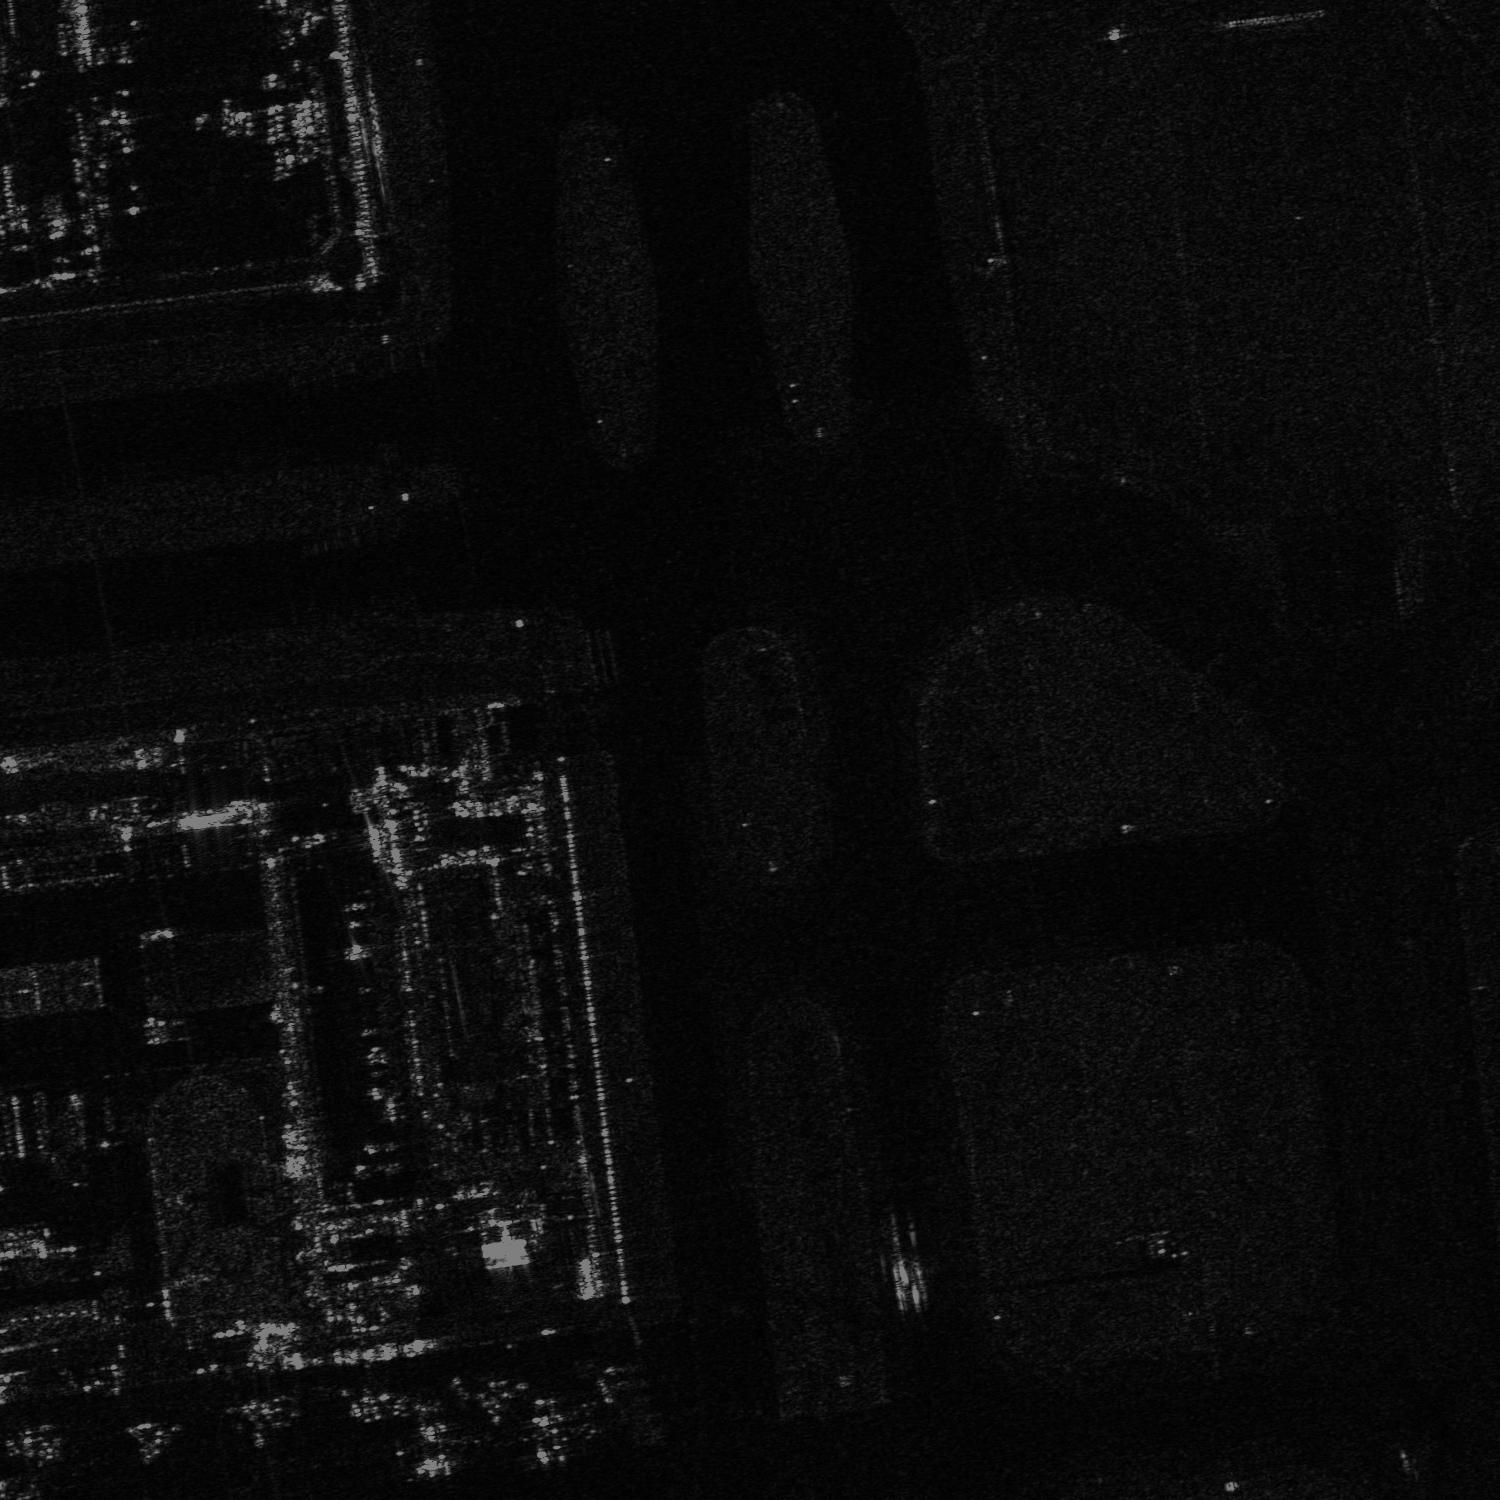Boeing737: (393, 1413, 470, 1482)
other: (519, 1393, 585, 1462)
